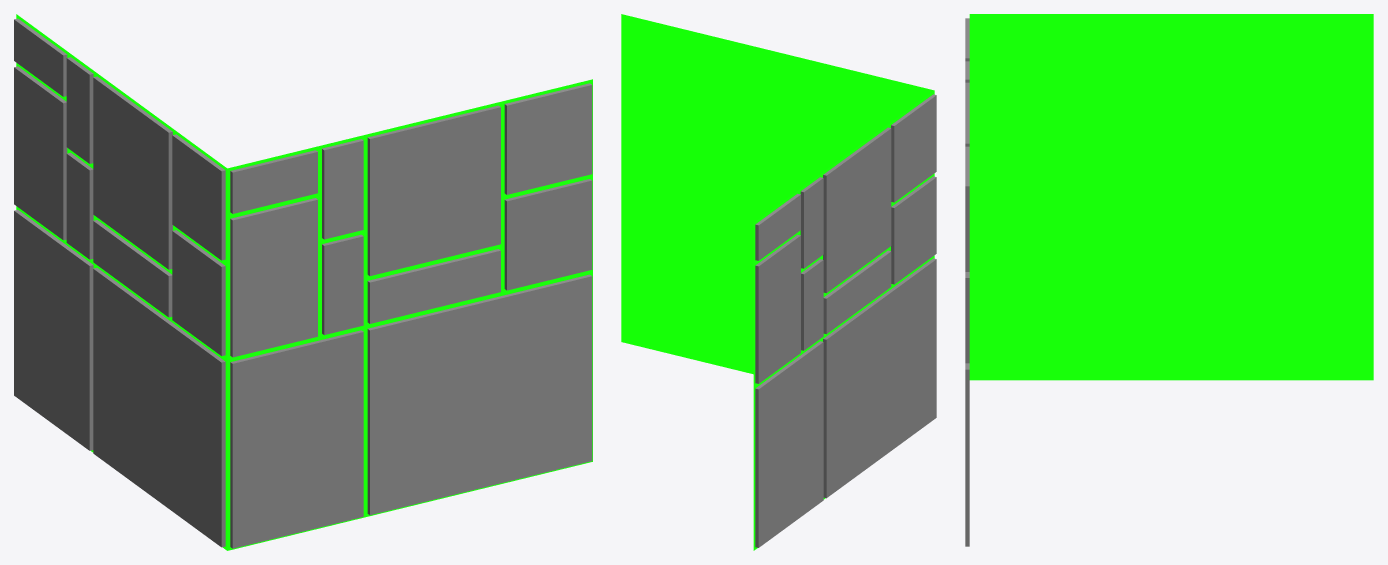
The model's file is Wall_15_Corner.FBX.
The picture shows the model from 3 angles, left to right: view 1: azimuth 30°, elevation 25°; view 2: azimuth 150°, elevation 25°; view 3: azimuth 270°, elevation 25°; orthographic projection. The views are drawn at different scales.
Parts seen in each view (by area): view 1: Wall_15_Corner_LOD0; view 2: Wall_15_Corner_LOD0; view 3: Wall_15_Corner_LOD0.
Part boxes in pixels (x1,y1,x2,y2): Wall_15_Corner_LOD0: [14, 14, 592, 550]; Wall_15_Corner_LOD0: [621, 14, 936, 550]; Wall_15_Corner_LOD0: [965, 14, 1373, 546].
Size of what is drawn, in the model's own units: 182 by 180 by 182.
